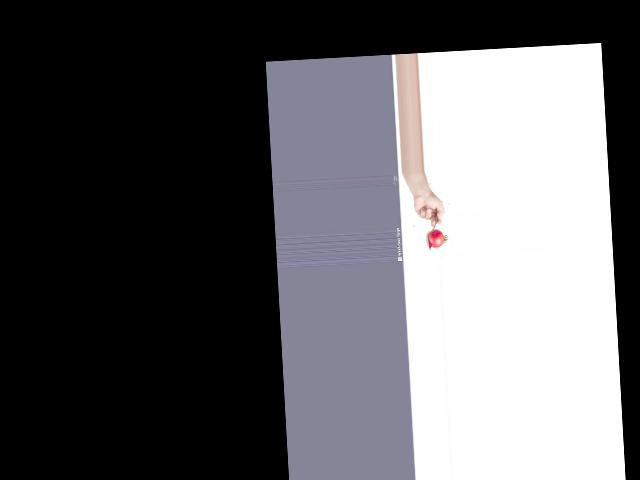tomato: (427, 228, 444, 247)
